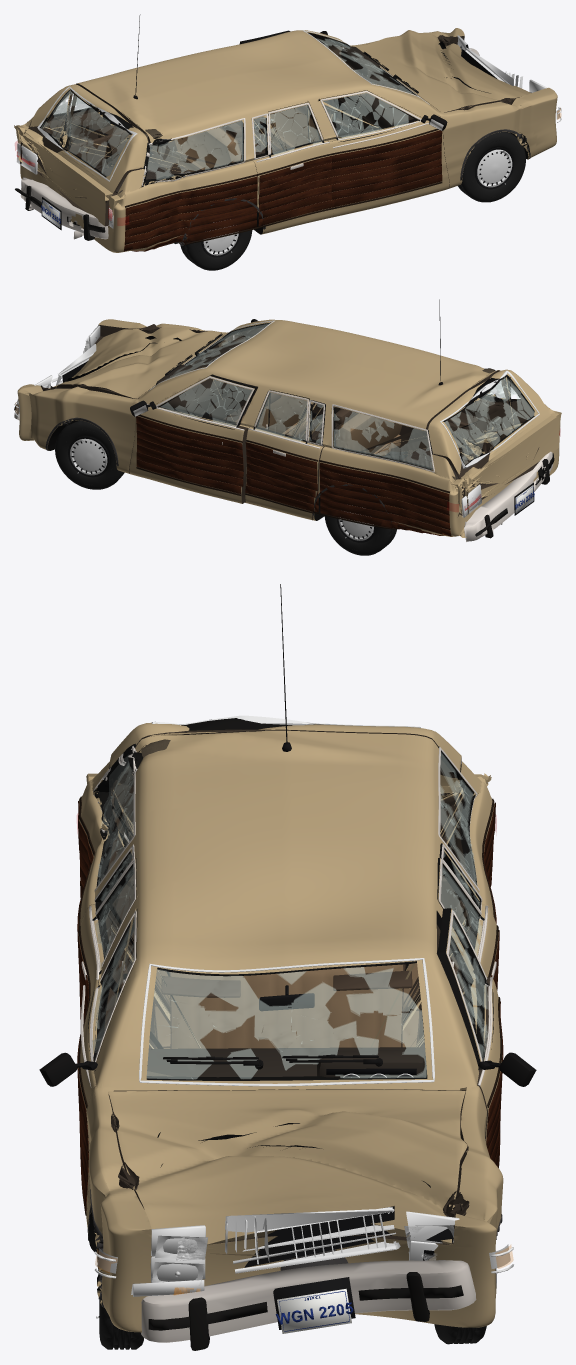
Rendered from wagon82_front_d1_lod1.glb.
3 views of the same model, one above another, from view 1: azimuth 30°, elevation 25°; view 2: azimuth 150°, elevation 25°; view 3: azimuth 270°, elevation 25° (orthographic). The views are drawn at different scales.
Visible parts, largest first — view 1: Body, Trim, Interior, Tailgate, Trim_FR, Hood, Trim_RR, Glass, Glass_Tailgate, Wheel_FR_mesh, Door_FR, Glass_FR (+5 smaller); view 2: Body, Trim, Interior, Tailgate, Trim_FL, Hood, Trim_RL, Glass_Tailgate, Glass, Door_FL, Wheel_FL_mesh, Bumper_R (+5 smaller); view 3: Body, Hood, Interior, Glass, Ends, Bumper_F, Tailgate, Trim, Door_FL, Trim_FL, Trim_FR, Door_FR (+9 smaller).
Part boxes in pixels (x1=…): Body: x1=14, y1=28, x2=557, y2=252; Trim: x1=48, y1=14, x2=530, y2=251; Interior: x1=70, y1=46, x2=413, y2=193; Tailgate: x1=18, y1=84, x2=148, y2=226; Trim_FR: x1=320, y1=90, x2=447, y2=208; Hood: x1=355, y1=30, x2=530, y2=112; Trim_RR: x1=251, y1=103, x2=334, y2=226; Glass: x1=53, y1=30, x2=429, y2=187; Glass_Tailgate: x1=37, y1=86, x2=137, y2=181; Wheel_FR_mesh: x1=458, y1=132, x2=525, y2=202; Door_FR: x1=319, y1=90, x2=449, y2=216; Glass_FR: x1=323, y1=90, x2=419, y2=141; Body: x1=17, y1=319, x2=561, y2=537; Trim: x1=45, y1=299, x2=502, y2=536; Interior: x1=156, y1=341, x2=512, y2=516; Tailgate: x1=428, y1=369, x2=559, y2=514; Trim_FL: x1=130, y1=376, x2=254, y2=495; Hood: x1=48, y1=327, x2=225, y2=398; Trim_RL: x1=245, y1=390, x2=324, y2=513; Glass_Tailgate: x1=440, y1=370, x2=539, y2=468; Glass: x1=149, y1=320, x2=517, y2=469; Door_FL: x1=129, y1=374, x2=257, y2=503; Wheel_FL_mesh: x1=55, y1=420, x2=124, y2=489; Bumper_R: x1=464, y1=451, x2=554, y2=541; Body: x1=79, y1=730, x2=503, y2=1332; Hood: x1=108, y1=1089, x2=468, y2=1245; Interior: x1=147, y1=963, x2=426, y2=1077; Glass: x1=93, y1=743, x2=477, y2=1086; Ends: x1=94, y1=812, x2=513, y2=1333; Bumper_F: x1=141, y1=1260, x2=476, y2=1350; Tailgate: x1=108, y1=718, x2=462, y2=882; Trim: x1=77, y1=584, x2=502, y2=1307; Door_FL: x1=437, y1=908, x2=502, y2=1143; Trim_FL: x1=446, y1=910, x2=536, y2=1167; Trim_FR: x1=39, y1=910, x2=136, y2=1215; Door_FR: x1=78, y1=909, x2=137, y2=1226.
Size of the model in its own units: 4.69 by 2.18 by 2.14.
35 materials, 6 textured.
